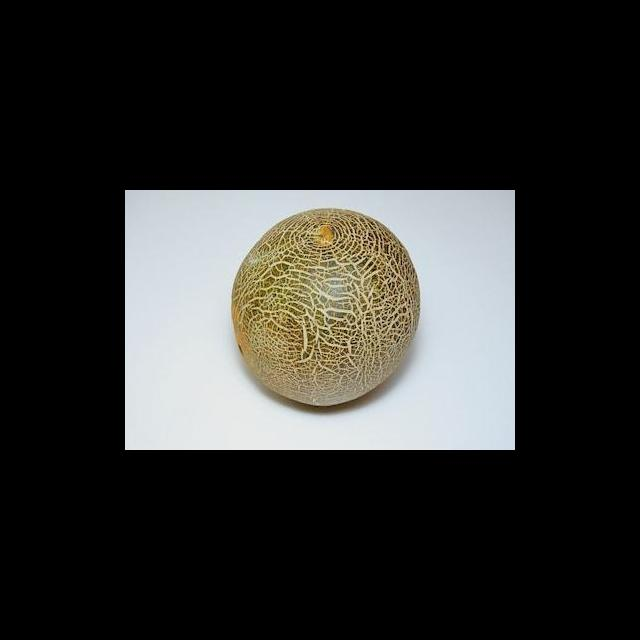Hami Melon: (230, 210, 421, 407)
